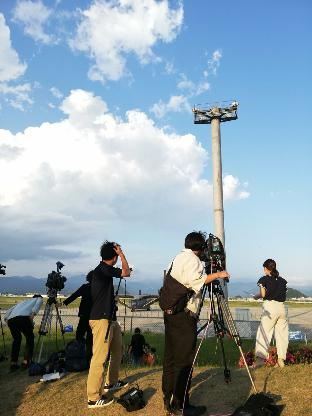Tornado: (114, 269, 166, 311)
